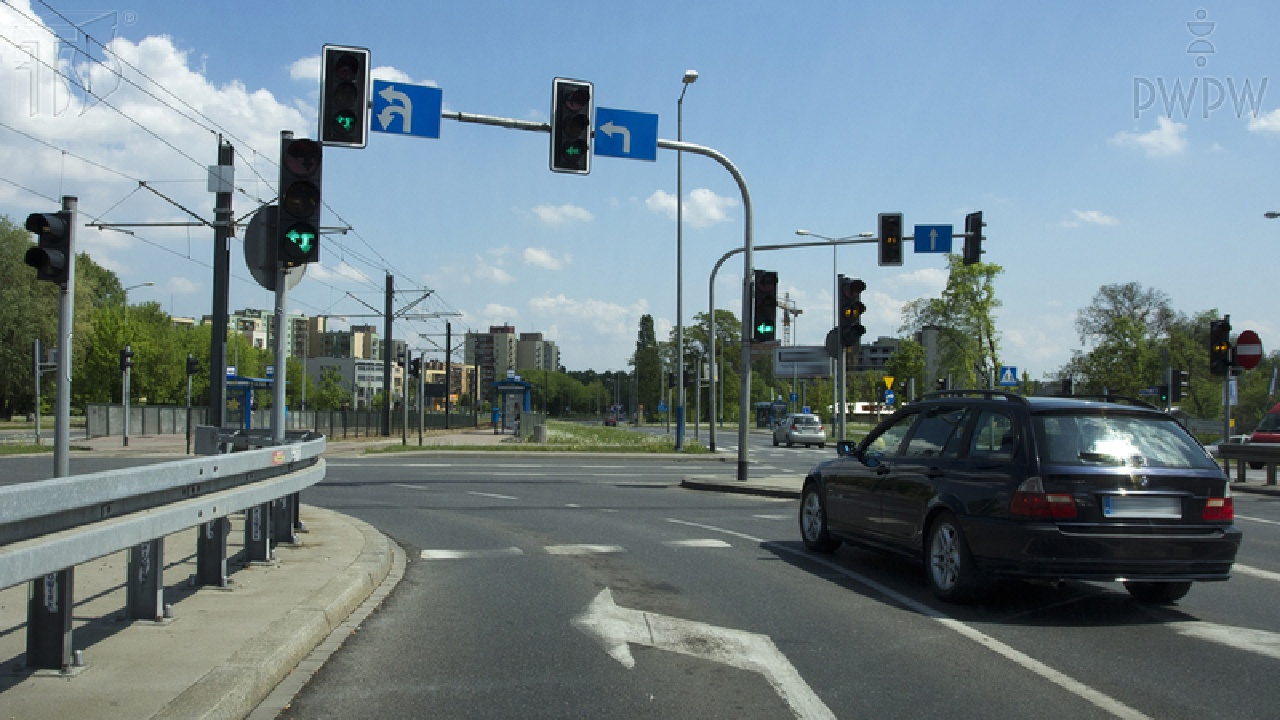Green: (281, 137, 321, 265), (329, 47, 361, 143), (558, 82, 585, 170), (757, 271, 773, 340)
